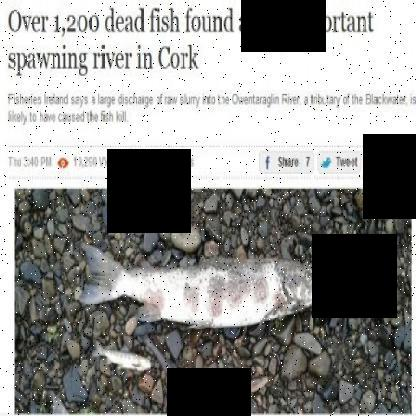fish: (75, 231, 329, 334)
